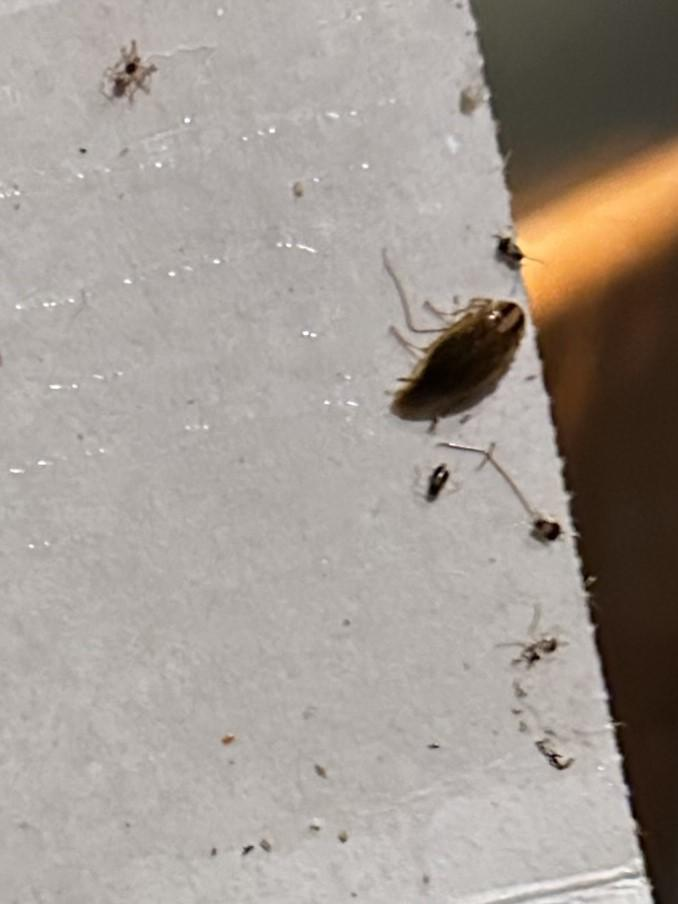cockroach: (310, 230, 541, 454), (490, 478, 596, 595), (380, 434, 488, 523)
